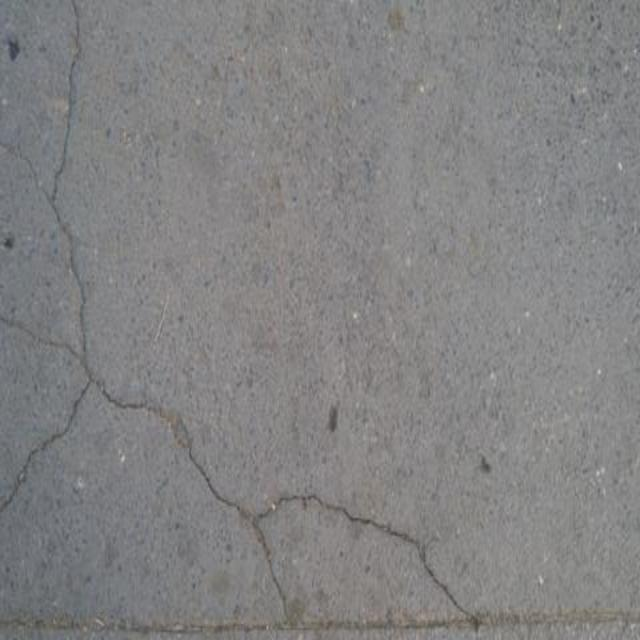cracks: (3, 0, 171, 568), (142, 407, 524, 640)
